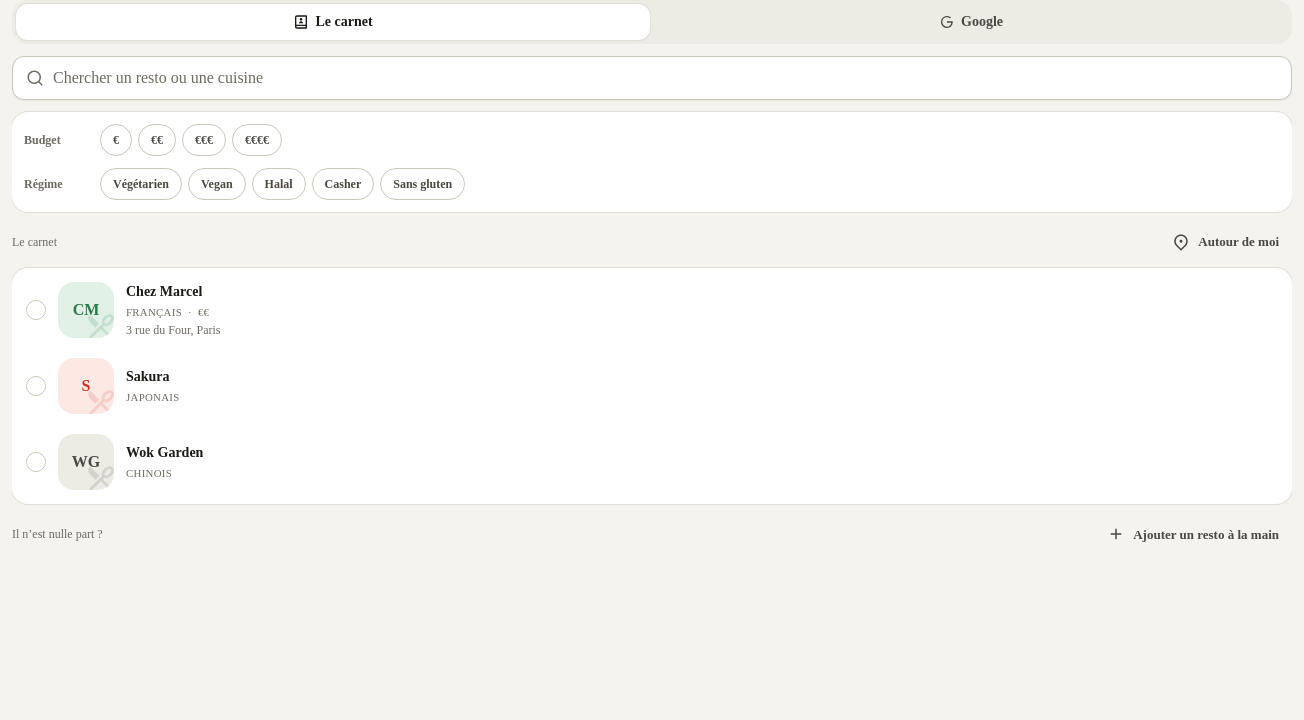
RestaurantPicker › should keep the filters on the next page of results
What coordinates should you click on to do the following:
click the radio button named "Budget maximum €€"
I would click on:
 (157, 140)
Its box is [138,124,176,156].
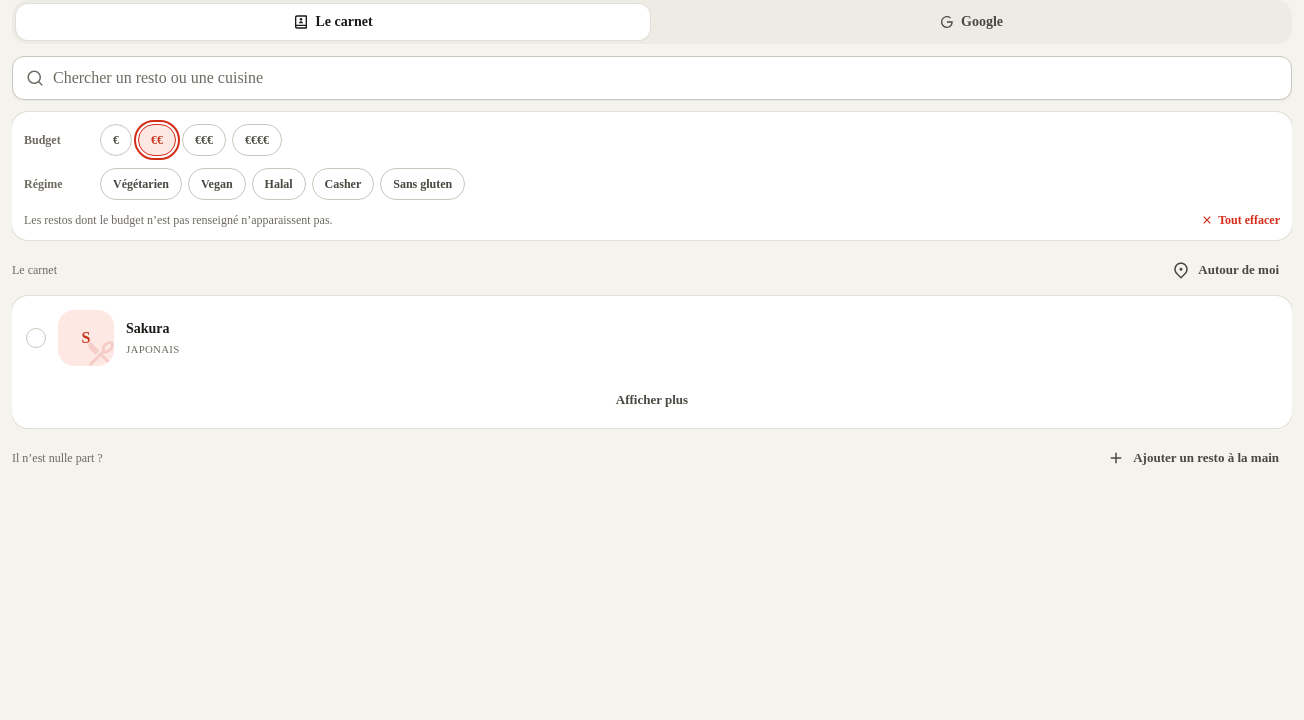
Result: the button "Afficher plus" is shown
What coordinates should you click on to do the following:
click the button "Afficher plus"
I would click on:
 (652, 400)
Its box is [22,382,1282,418].
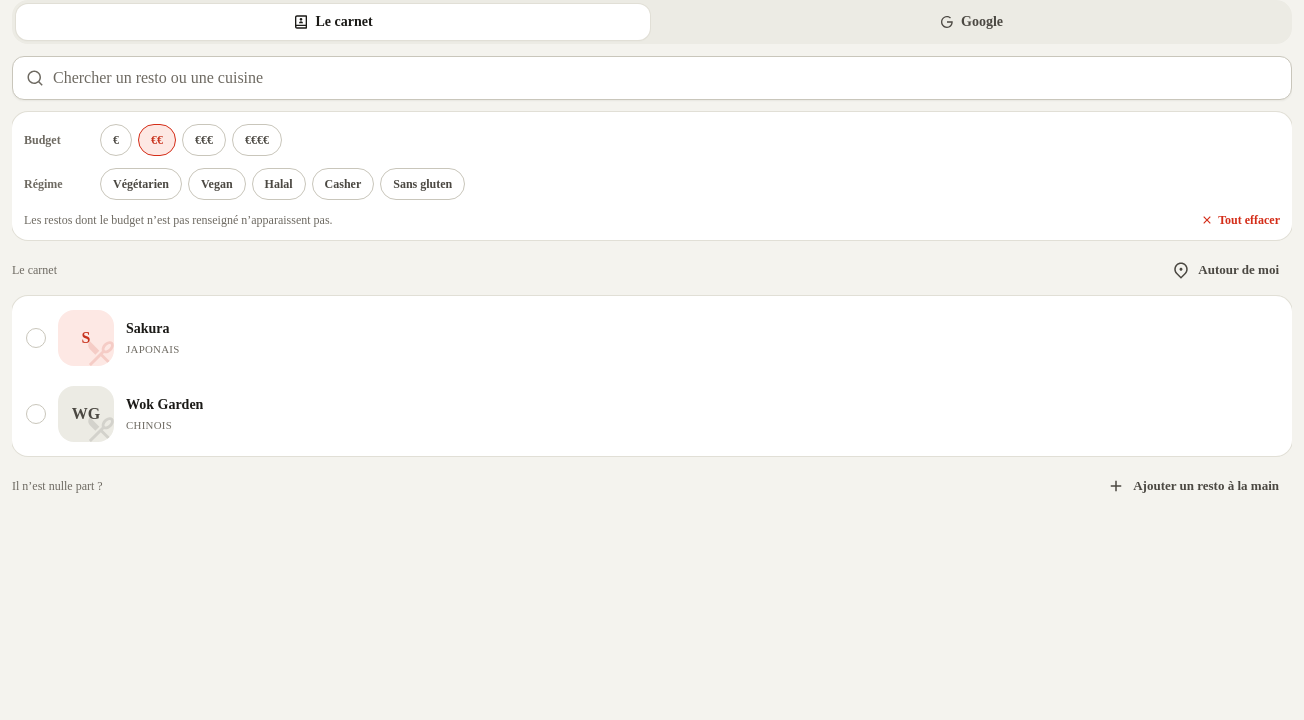
Expected: the checkbox labelled "S Sakura Japonais" is shown, [18,302,1286,374]
Result: the checkbox labelled "Wok Garden" is shown at [18,378,1286,450]
